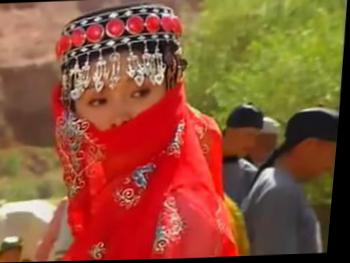WRONG: (75, 60, 177, 166)
